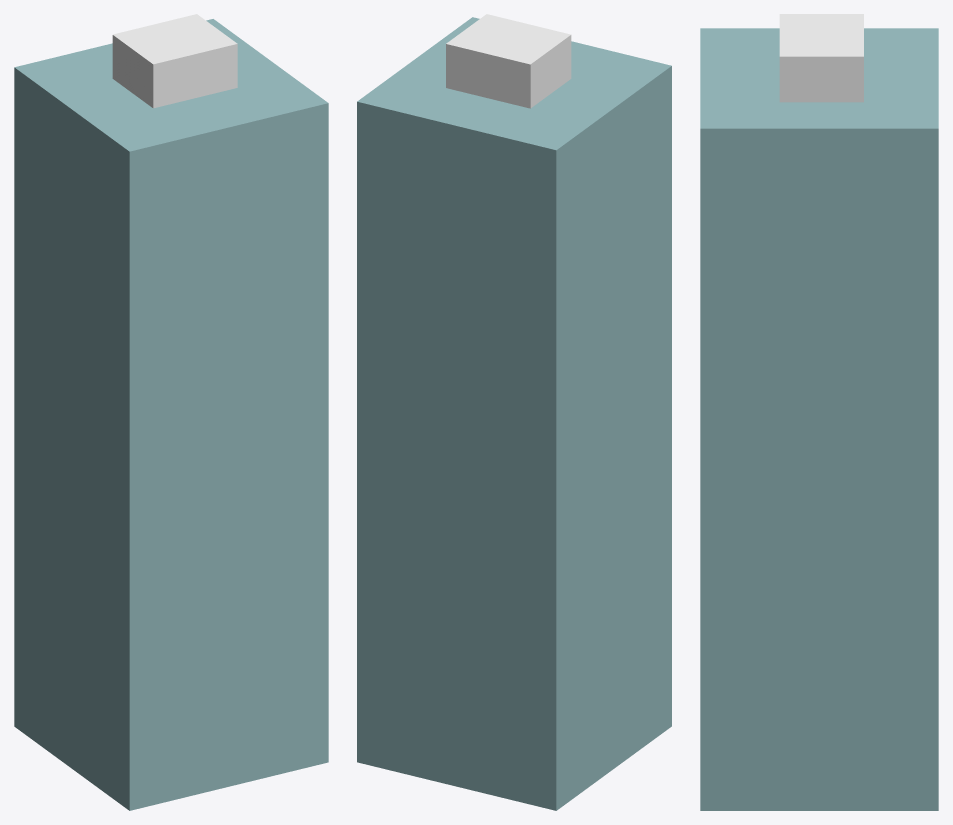
The model's file is waterbottle2.fbx.
3 renders of one model, left to right at view 1: azimuth 30°, elevation 25°; view 2: azimuth 150°, elevation 25°; view 3: azimuth 270°, elevation 25°, orthographic. The views are drawn at different scales.
Parts seen in each view (by area): view 1: Box140, Box141; view 2: Box140, Box141; view 3: Box140, Box141.
Part boxes in pixels (box(x1,y1,x2,y2)): Box140: box(14, 19, 328, 810); Box141: box(112, 14, 237, 108); Box140: box(357, 17, 671, 810); Box141: box(446, 14, 571, 108); Box140: box(700, 28, 938, 810); Box141: box(779, 14, 863, 102).
Size of the model in its own units: 5.09 by 17.19 by 5.11.
